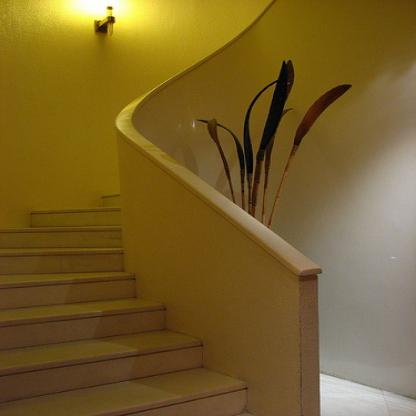stairs: (10, 304, 174, 416)
